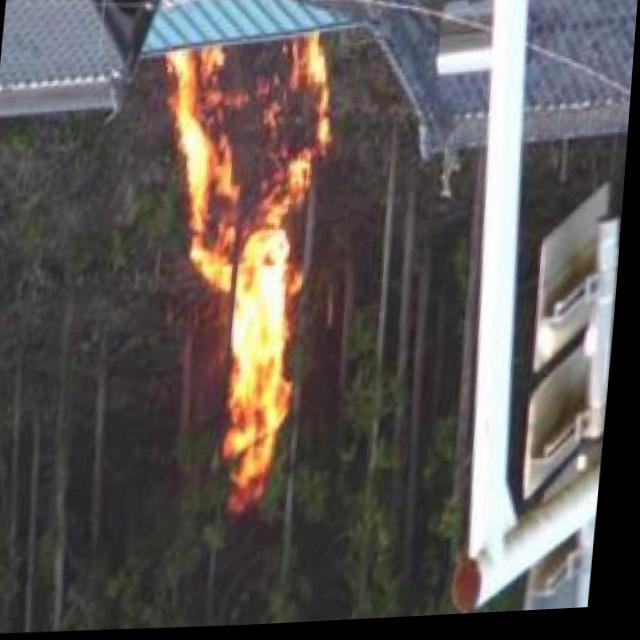Fire: (213, 35, 340, 485)
